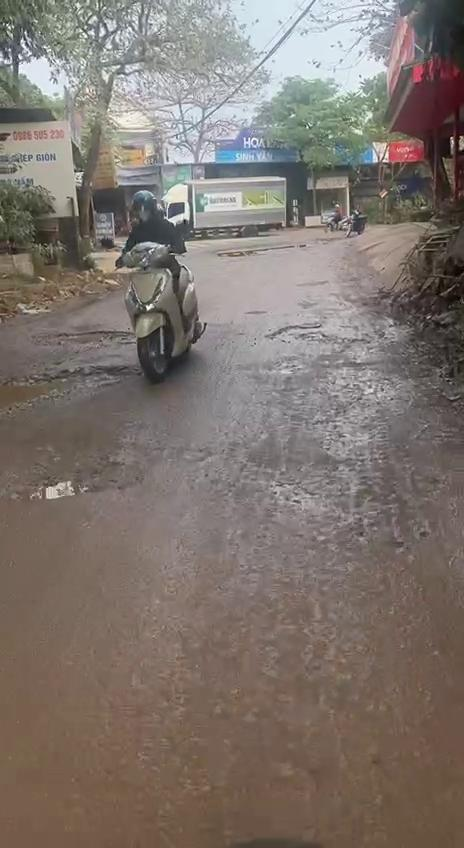pothole: (0, 355, 141, 418), (0, 454, 141, 505), (269, 322, 363, 348), (71, 325, 142, 346)
